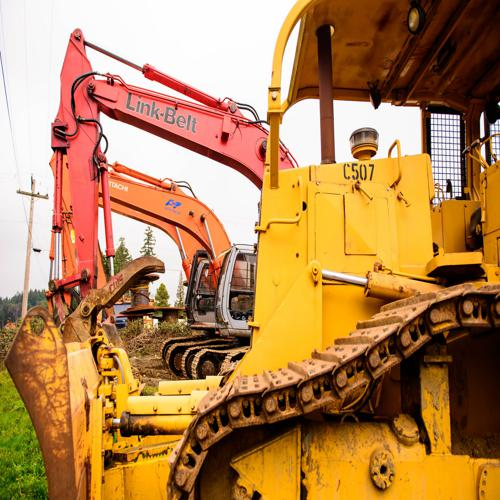con_eq: (162, 2, 500, 500), (61, 26, 258, 375)
